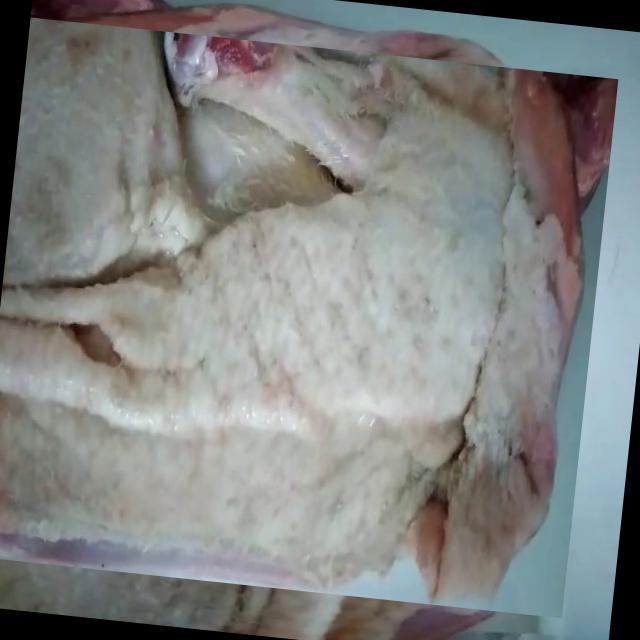chicken: (0, 0, 596, 639)
